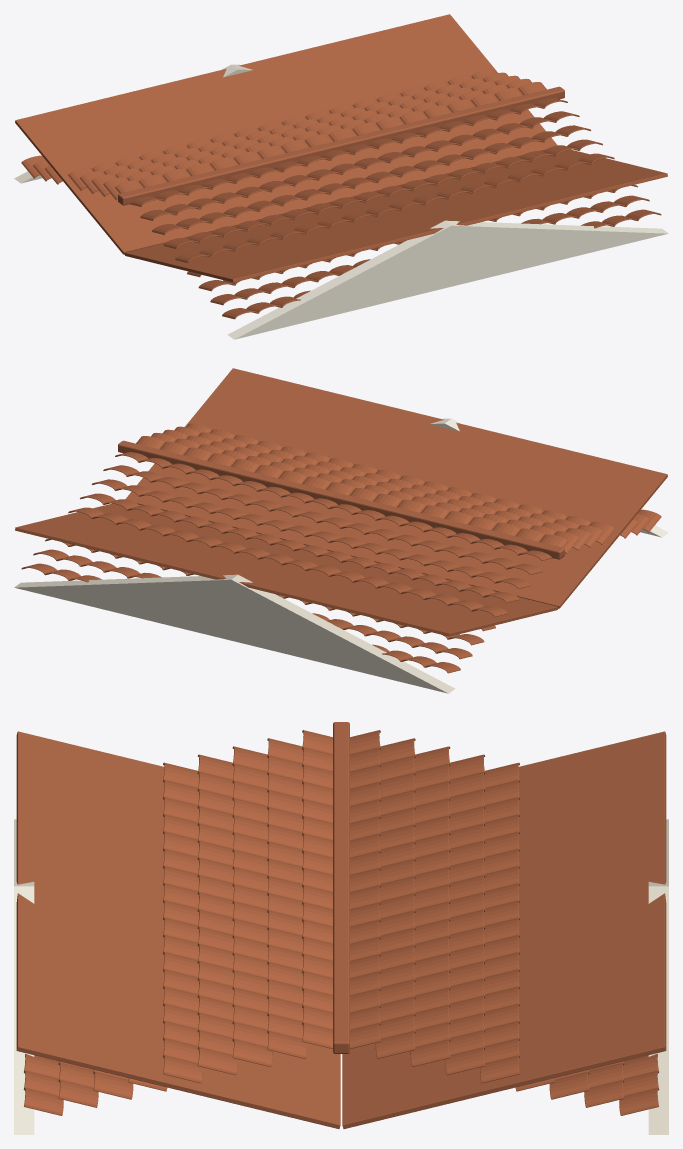
Rendered from Greek_Temple_Roof.fbx.
3 renders of one model, top to bottom at view 1: azimuth 30°, elevation 25°; view 2: azimuth 150°, elevation 25°; view 3: azimuth 270°, elevation 25°, orthographic. The views are drawn at different scales.
Visible parts, largest first — view 1: Greek_Temple_Roof - Weathered Terracotta, Greek_Temple_Roof - Fresh Marble Edge; view 2: Greek_Temple_Roof - Weathered Terracotta, Greek_Temple_Roof - Aged Pentelic Marble; view 3: Greek_Temple_Roof - Weathered Terracotta, Greek_Temple_Roof - Aged Pentelic Marble, Greek_Temple_Roof - Fresh Marble Edge.
Boxes of the visible parts, bbox=[...] form: Greek_Temple_Roof - Weathered Terracotta: bbox=[15, 14, 667, 319]; Greek_Temple_Roof - Fresh Marble Edge: bbox=[227, 220, 668, 339]; Greek_Temple_Roof - Weathered Terracotta: bbox=[15, 368, 667, 673]; Greek_Temple_Roof - Aged Pentelic Marble: bbox=[14, 574, 455, 693]; Greek_Temple_Roof - Weathered Terracotta: bbox=[16, 722, 666, 1128]; Greek_Temple_Roof - Aged Pentelic Marble: bbox=[648, 819, 668, 1134]; Greek_Temple_Roof - Fresh Marble Edge: bbox=[14, 819, 34, 1134].
Bounding box in the file's own units: 44.8 × 6.26 × 38.6.
